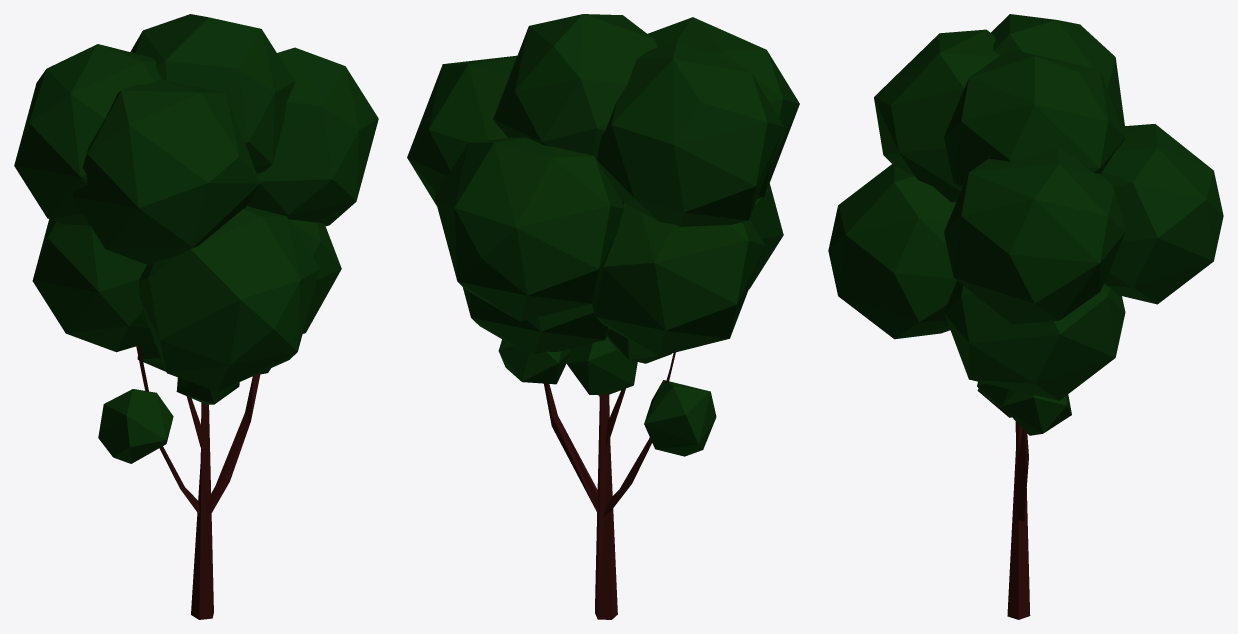
The picture shows the model from 3 angles, left to right: view 1: azimuth 30°, elevation 25°; view 2: azimuth 150°, elevation 25°; view 3: azimuth 270°, elevation 25°; orthographic projection. The views are drawn at different scales.
Parts seen in each view (by area): view 1: skp29DA (×12); view 2: skp29DA (×15); view 3: skp29DA (×10).
Part boxes in pixels (left/top/right/bottom): skp29DA (×12): left=14, top=14, right=378, bottom=619; skp29DA (×15): left=407, top=14, right=799, bottom=619; skp29DA (×10): left=828, top=14, right=1223, bottom=619.
Bounding box in the file's own units: 84.33 × 88.82 × 140.
